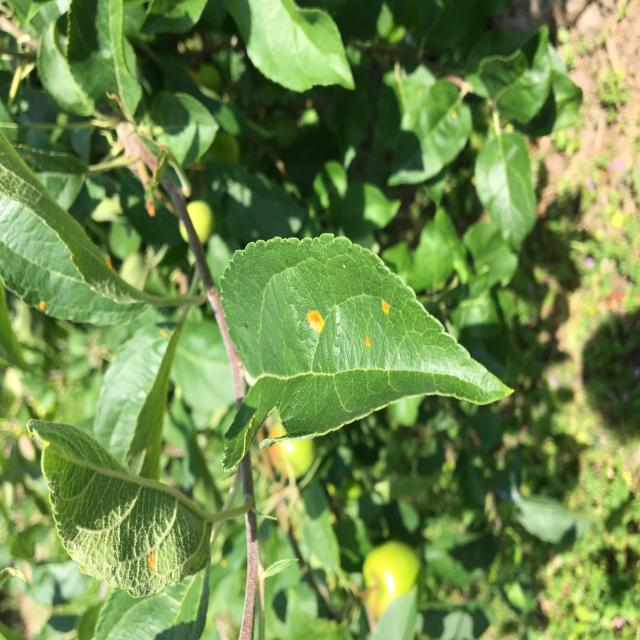rust: (214, 232, 516, 475), (25, 417, 211, 599)
